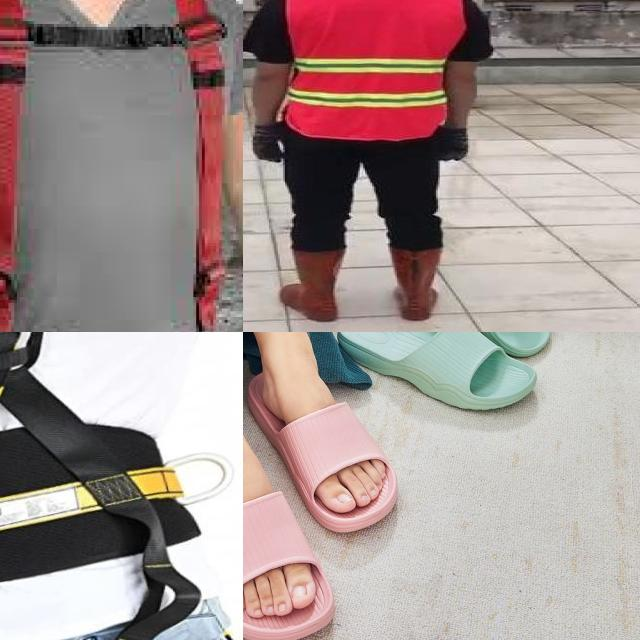Harness: (0, 0, 230, 332), (0, 332, 202, 640)
Sandals: (243, 339, 434, 640)
hand_glove: (243, 109, 293, 180), (431, 111, 472, 174)
person: (243, 0, 495, 321)
